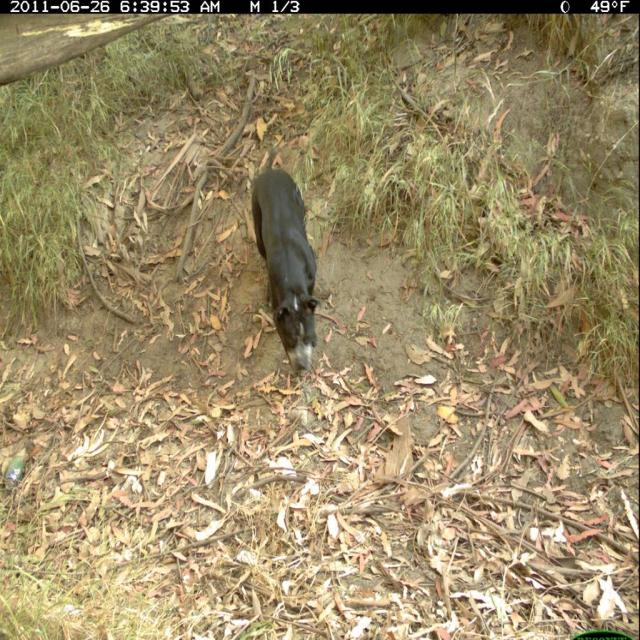dog: (243, 157, 332, 389)
